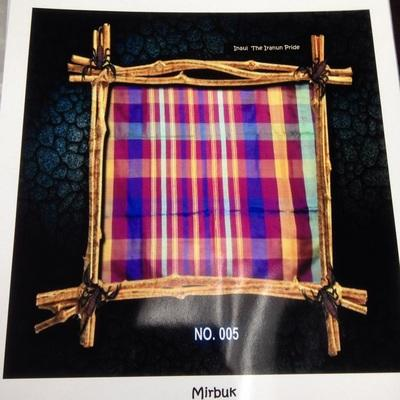malong: (97, 77, 332, 294)
